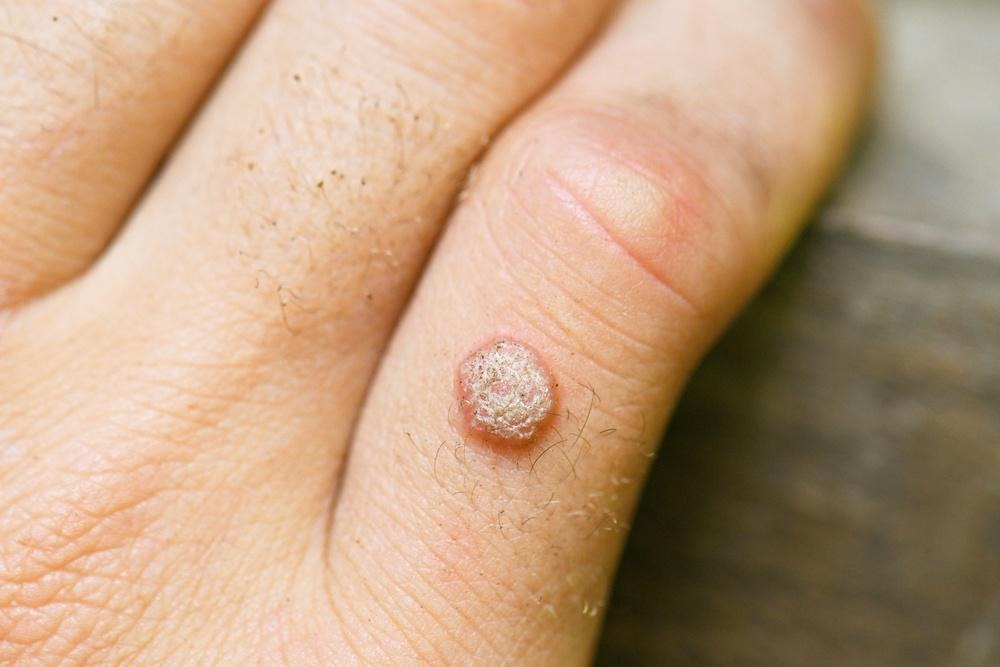Warts: (438, 325, 565, 462)
